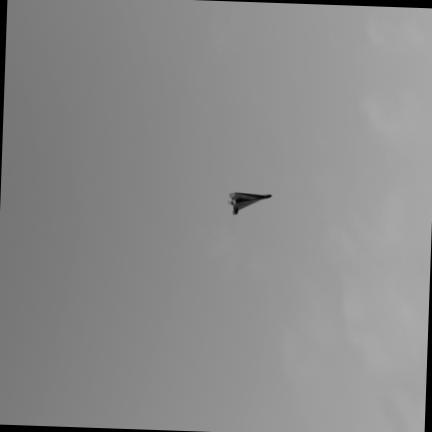Shahed: (230, 192, 271, 213)
